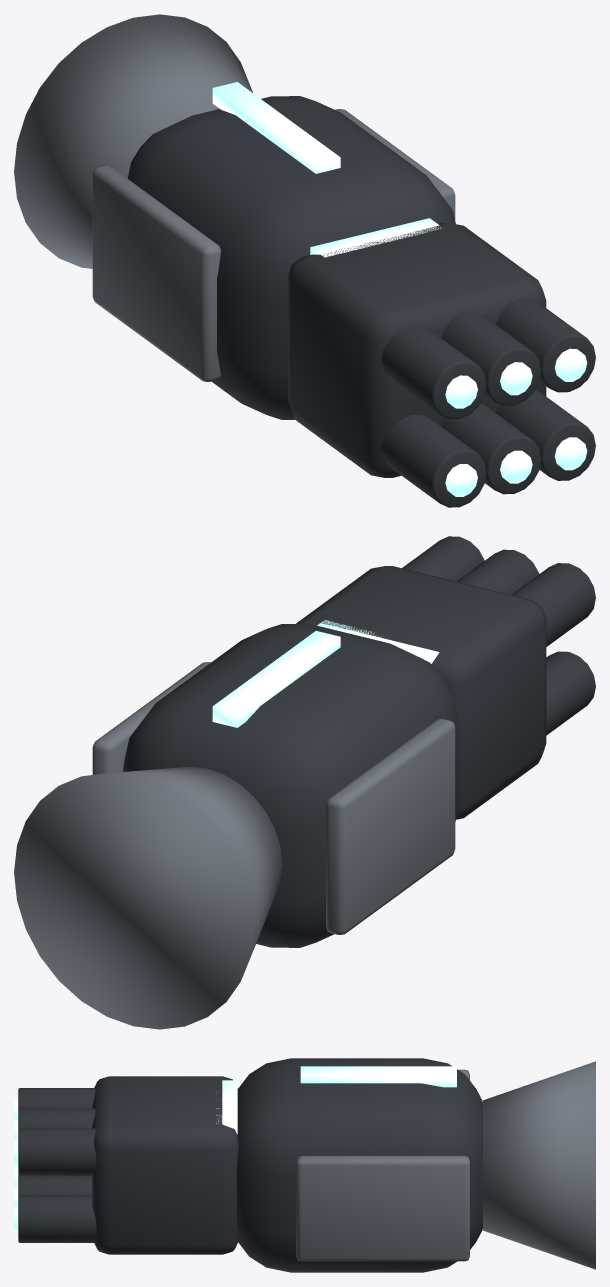
The model's file is weapon_drone_swarm.glb.
3 views of the same model, one above another, from view 1: azimuth 30°, elevation 25°; view 2: azimuth 150°, elevation 25°; view 3: azimuth 270°, elevation 25° (orthographic). The views are drawn at different scales.
Visible parts, largest first — view 1: weapon_drone_swarm; view 2: weapon_drone_swarm; view 3: weapon_drone_swarm.
Boxes of the visible parts, x1=… form: weapon_drone_swarm: x1=14, y1=14, x2=595, y2=507; weapon_drone_swarm: x1=14, y1=536, x2=595, y2=1029; weapon_drone_swarm: x1=14, y1=1058, x2=595, y2=1272.
Size of the model in its own units: 0.51 by 0.48 by 1.34.
